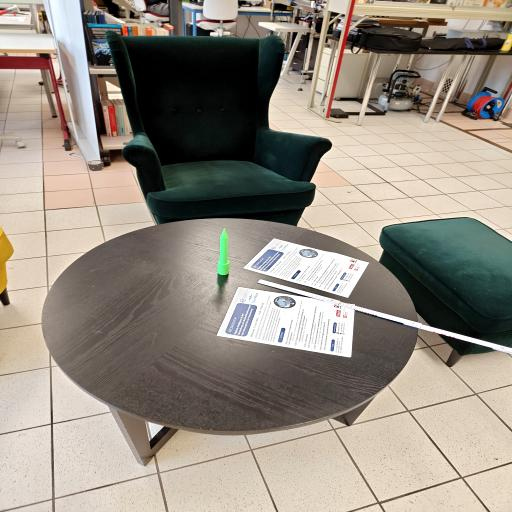Probe-Detection: (217, 228, 229, 275)
